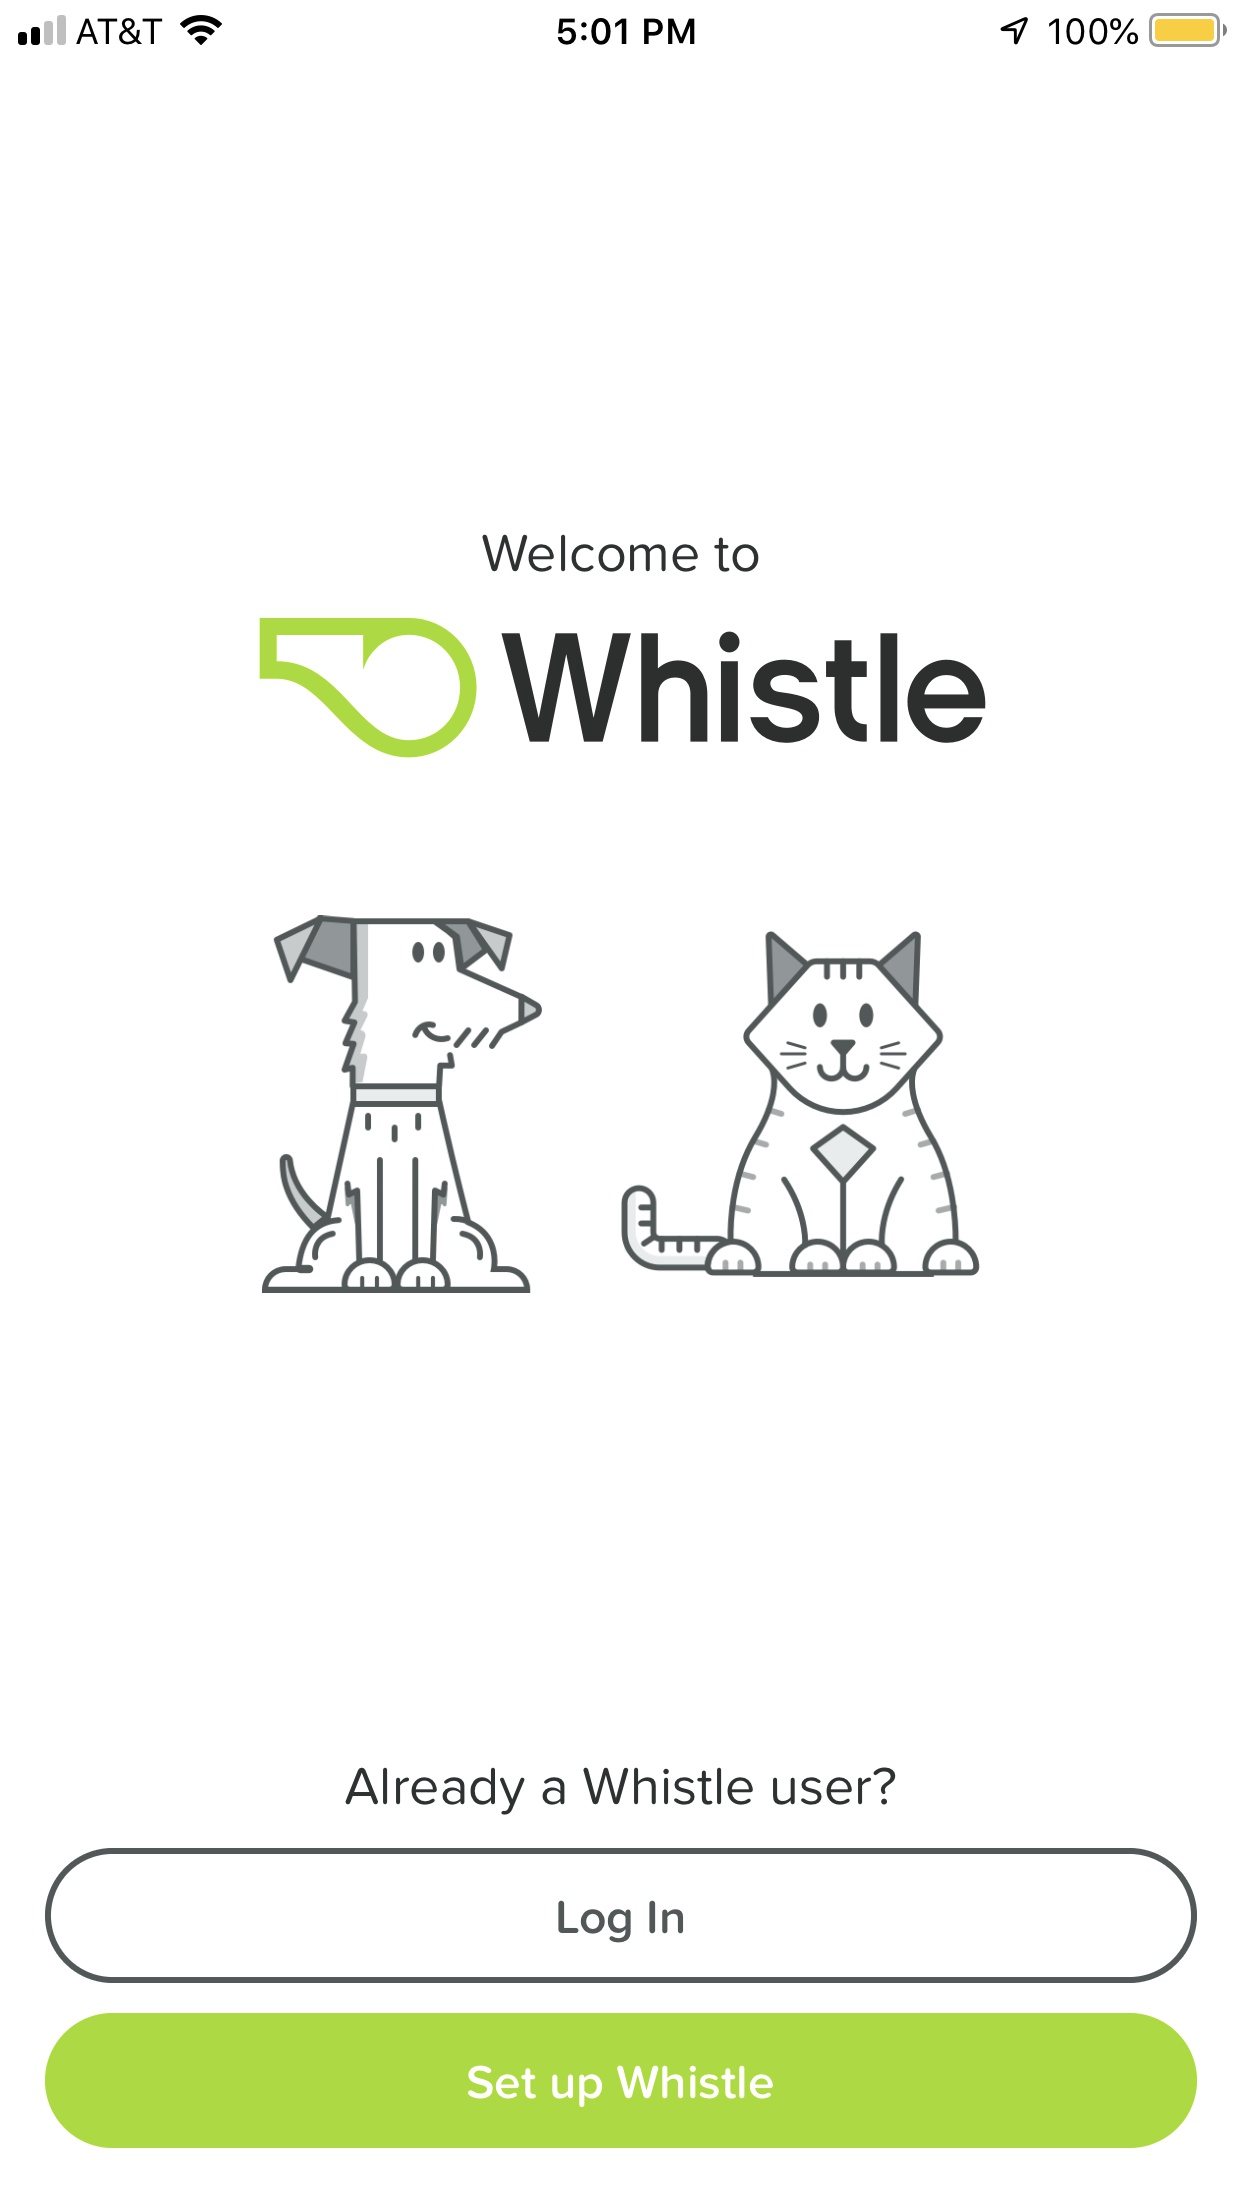Image: (620, 930, 983, 1278), (261, 913, 544, 1295), (259, 619, 478, 760)
Text: (500, 632, 986, 745), (346, 1767, 898, 1817), (482, 534, 760, 573)
TextButton: (45, 1847, 1198, 1984), (45, 2012, 1198, 2149)
UpperTaskBar: (2, 2, 1242, 49)
